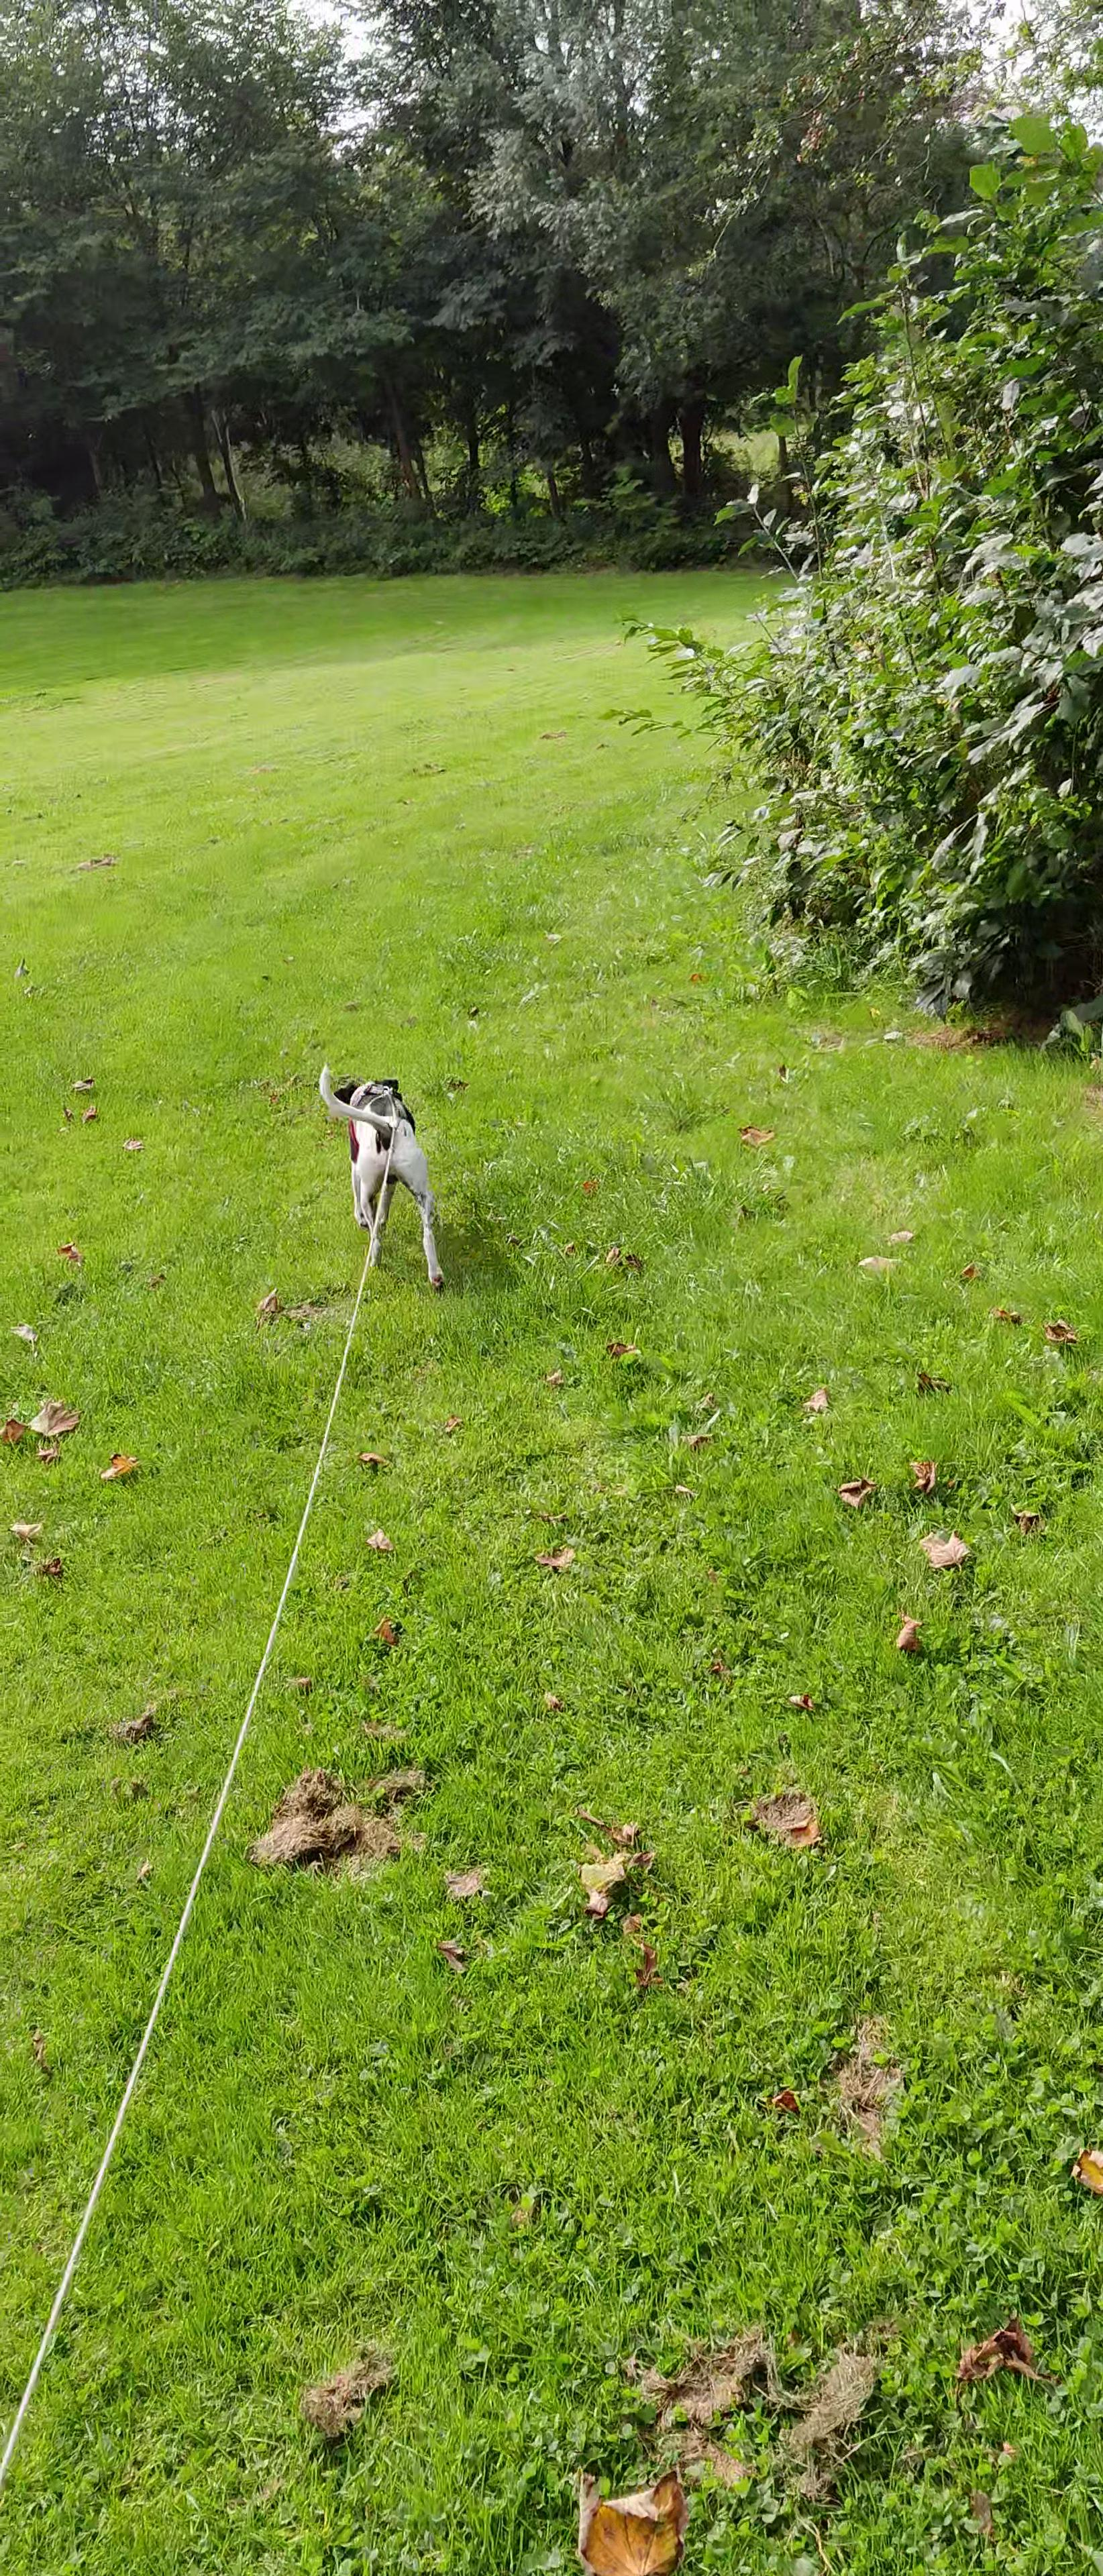Dog: (301, 1040, 467, 1311)
